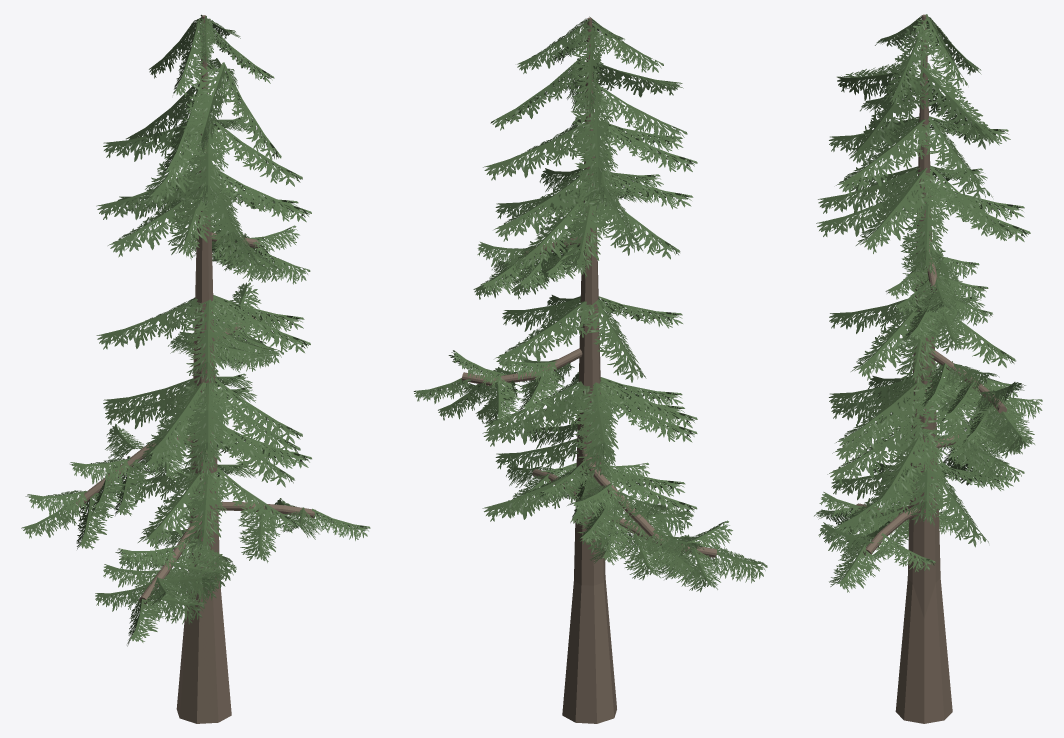
File: TallPineTree2.fbx
The picture shows the model from 3 angles, left to right: view 1: azimuth 30°, elevation 25°; view 2: azimuth 150°, elevation 25°; view 3: azimuth 270°, elevation 25°; orthographic projection.
Parts seen in each view (by area): view 1: Pineleaves, Cylinder.001, Plane; view 2: Pineleaves, Cylinder.001, Plane; view 3: Pineleaves, Cylinder.001, Plane.
Part boxes in pixels (left/top/right/bottom): Pineleaves: left=21, top=14, right=370, bottom=646; Cylinder.001: left=176, top=15, right=231, bottom=723; Plane: left=76, top=232, right=315, bottom=604; Pineleaves: left=413, top=16, right=767, bottom=592; Cylinder.001: left=562, top=17, right=616, bottom=723; Plane: left=462, top=237, right=716, bottom=557; Pineleaves: left=814, top=14, right=1042, bottom=592; Cylinder.001: left=895, top=14, right=952, bottom=723; Plane: left=856, top=238, right=1006, bottom=556.
Bounding box in the file's own units: 481 × 1116 × 358.
